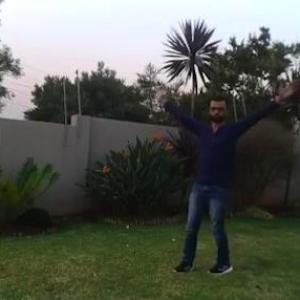takeoff: (151, 86, 295, 276)
